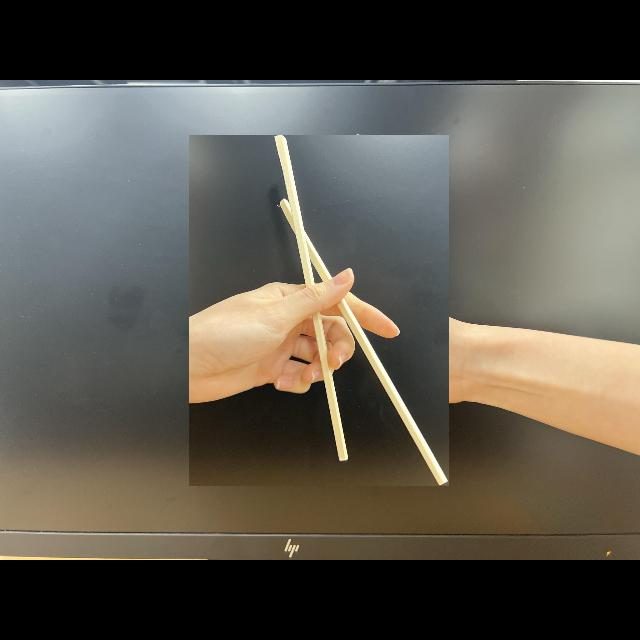stick: (189, 134, 449, 486)
